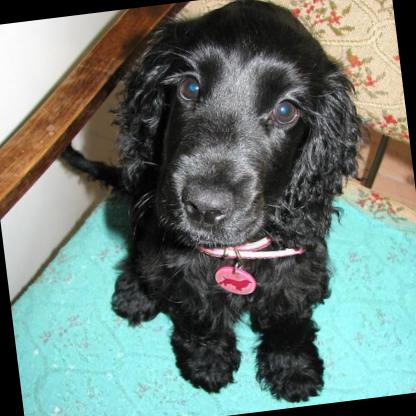cocker_spaniel: (38, 0, 406, 416)
